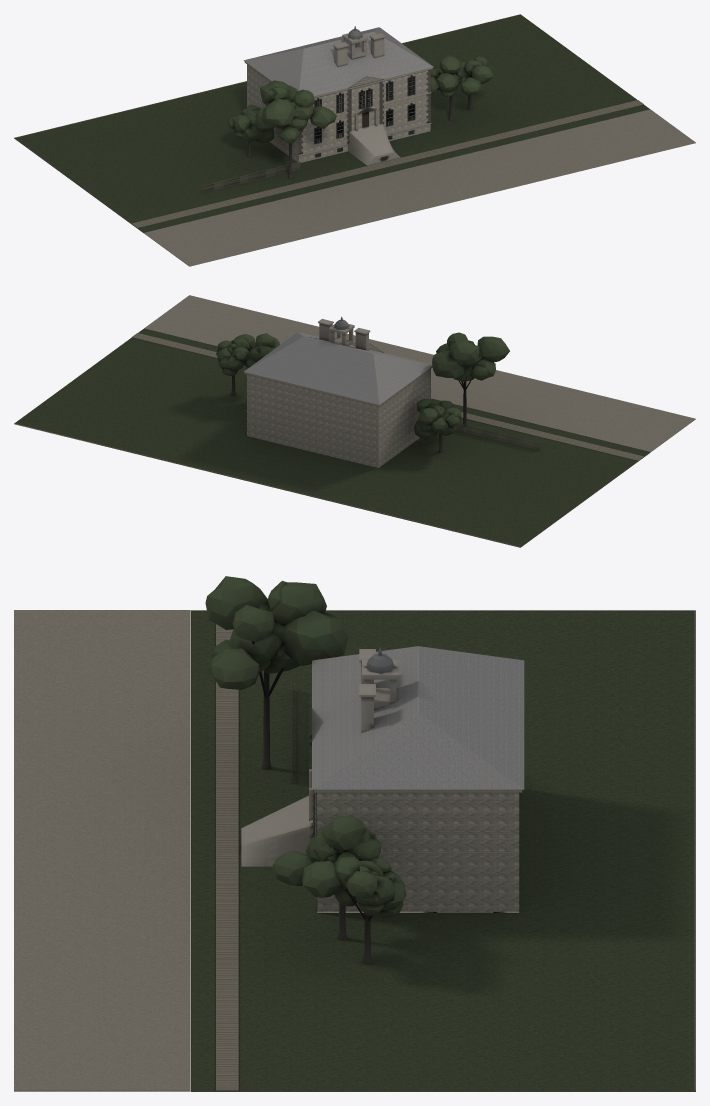
File: naismith-almonte-high-school.glb
The picture shows the model from 3 angles, top to bottom: view 1: azimuth 30°, elevation 25°; view 2: azimuth 150°, elevation 25°; view 3: azimuth 270°, elevation 25°; orthographic projection. The views are drawn at different scales.
Parts seen in each view (by area): view 1: yard_grass, road, artifact_school, roof, sidewalk, artifact_elm, artifact_entrance, tree_right_0, artifact_windows, artifact_belfry_and_chimneys, tree_left_back, fence_left (+3 smaller); view 2: yard_grass, road, artifact_school, roof, artifact_elm, sidewalk, tree_left_back, tree_right_1, artifact_belfry_and_chimneys, fence_left, tree_right_0, stone_bands; view 3: yard_grass, road, roof, artifact_school, artifact_elm, sidewalk, tree_right_0, tree_right_1, artifact_entrance, artifact_belfry_and_chimneys, stone_bands.
Boxes of the visible parts, x1=… form: yard_grass: x1=14, y1=14, x2=649, y2=233; road: x1=144, y1=109, x2=695, y2=266; artifact_school: x1=247, y1=64, x2=430, y2=162; roof: x1=243, y1=27, x2=433, y2=96; sidewalk: x1=131, y1=100, x2=643, y2=227; artifact_elm: x1=255, y1=80, x2=336, y2=179; artifact_entrance: x1=349, y1=107, x2=400, y2=165; tree_right_0: x1=430, y1=55, x2=493, y2=120; artifact_windows: x1=314, y1=75, x2=415, y2=157; artifact_belfry_and_chimneys: x1=333, y1=26, x2=385, y2=67; tree_left_back: x1=227, y1=104, x2=274, y2=157; fence_left: x1=202, y1=161, x2=300, y2=193; yard_grass: x1=14, y1=328, x2=650, y2=547; road: x1=144, y1=295, x2=695, y2=451; artifact_school: x1=247, y1=369, x2=430, y2=467; roof: x1=243, y1=332, x2=432, y2=404; artifact_elm: x1=432, y1=332, x2=509, y2=426; sidewalk: x1=131, y1=333, x2=643, y2=460; tree_left_back: x1=414, y1=399, x2=461, y2=452; tree_right_1: x1=216, y1=338, x2=256, y2=395; artifact_belfry_and_chimneys: x1=318, y1=316, x2=370, y2=350; fence_left: x1=455, y1=423, x2=540, y2=450; tree_right_0: x1=234, y1=333, x2=280, y2=361; stone_bands: x1=244, y1=366, x2=432, y2=406; yard_grass: x1=191, y1=610, x2=695, y2=1091; road: x1=14, y1=610, x2=190, y2=1091; roof: x1=312, y1=646, x2=524, y2=789; artifact_school: x1=314, y1=792, x2=519, y2=912; artifact_elm: x1=205, y1=576, x2=348, y2=769; sidewalk: x1=216, y1=624, x2=238, y2=1090; tree_right_0: x1=271, y1=815, x2=380, y2=940; tree_right_1: x1=333, y1=856, x2=406, y2=964; artifact_entrance: x1=240, y1=769, x2=313, y2=866; artifact_belfry_and_chimneys: x1=359, y1=647, x2=398, y2=732; stone_bands: x1=314, y1=789, x2=522, y2=898.
Size of what is drawn, in the model's own units: 90 by 18.39 by 54.
Materials: 3 (2 with a texture image).
